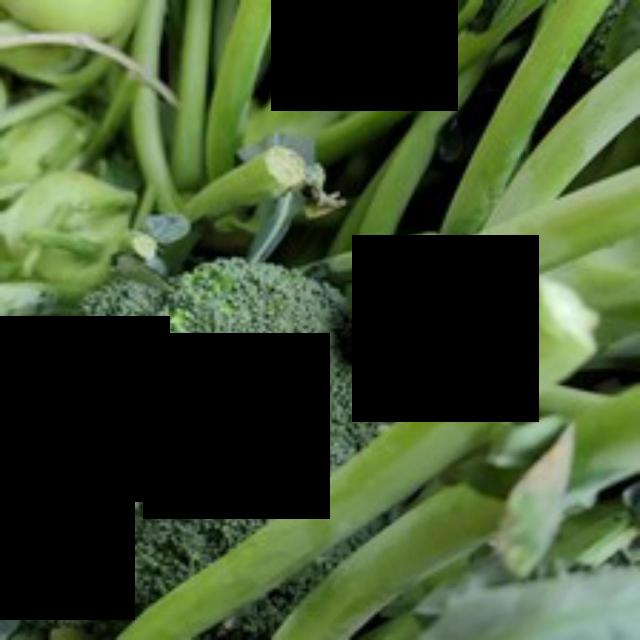broccoli: (105, 244, 424, 558)
